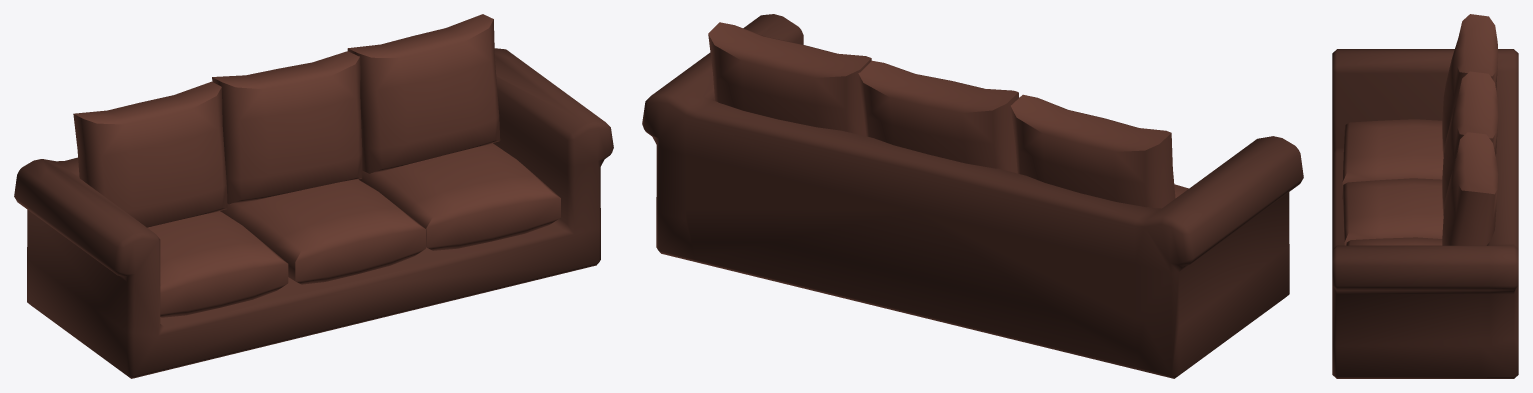
The model's file is chair_large.glb.
3 renders of one model, left to right at view 1: azimuth 30°, elevation 25°; view 2: azimuth 150°, elevation 25°; view 3: azimuth 270°, elevation 25°, orthographic. The views are drawn at different scales.
Parts seen in each view (by area): view 1: Couch_Large1; view 2: Couch_Large1; view 3: Couch_Large1.
Part boxes in pixels (box(x1,y1,x2,y2)): Couch_Large1: box(14, 14, 613, 378); Couch_Large1: box(642, 14, 1303, 378); Couch_Large1: box(1332, 14, 1518, 378).
Bounding box in the file's own units: 5.48 × 2.11 × 1.99.
